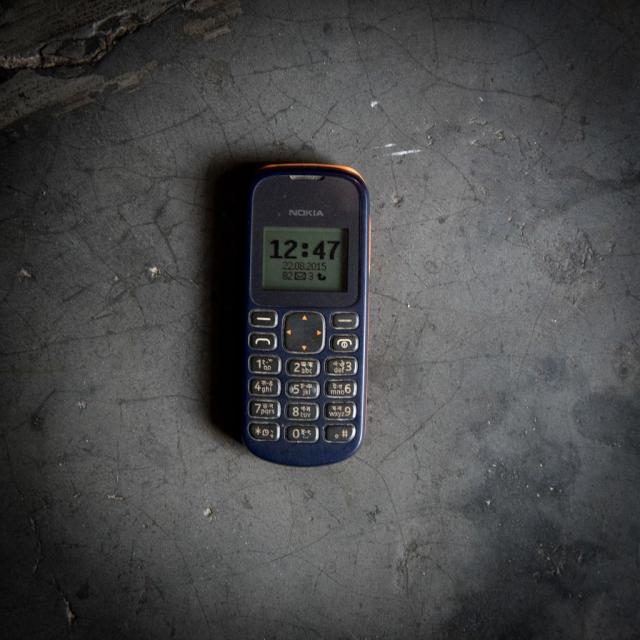Phone: (240, 158, 372, 468)
